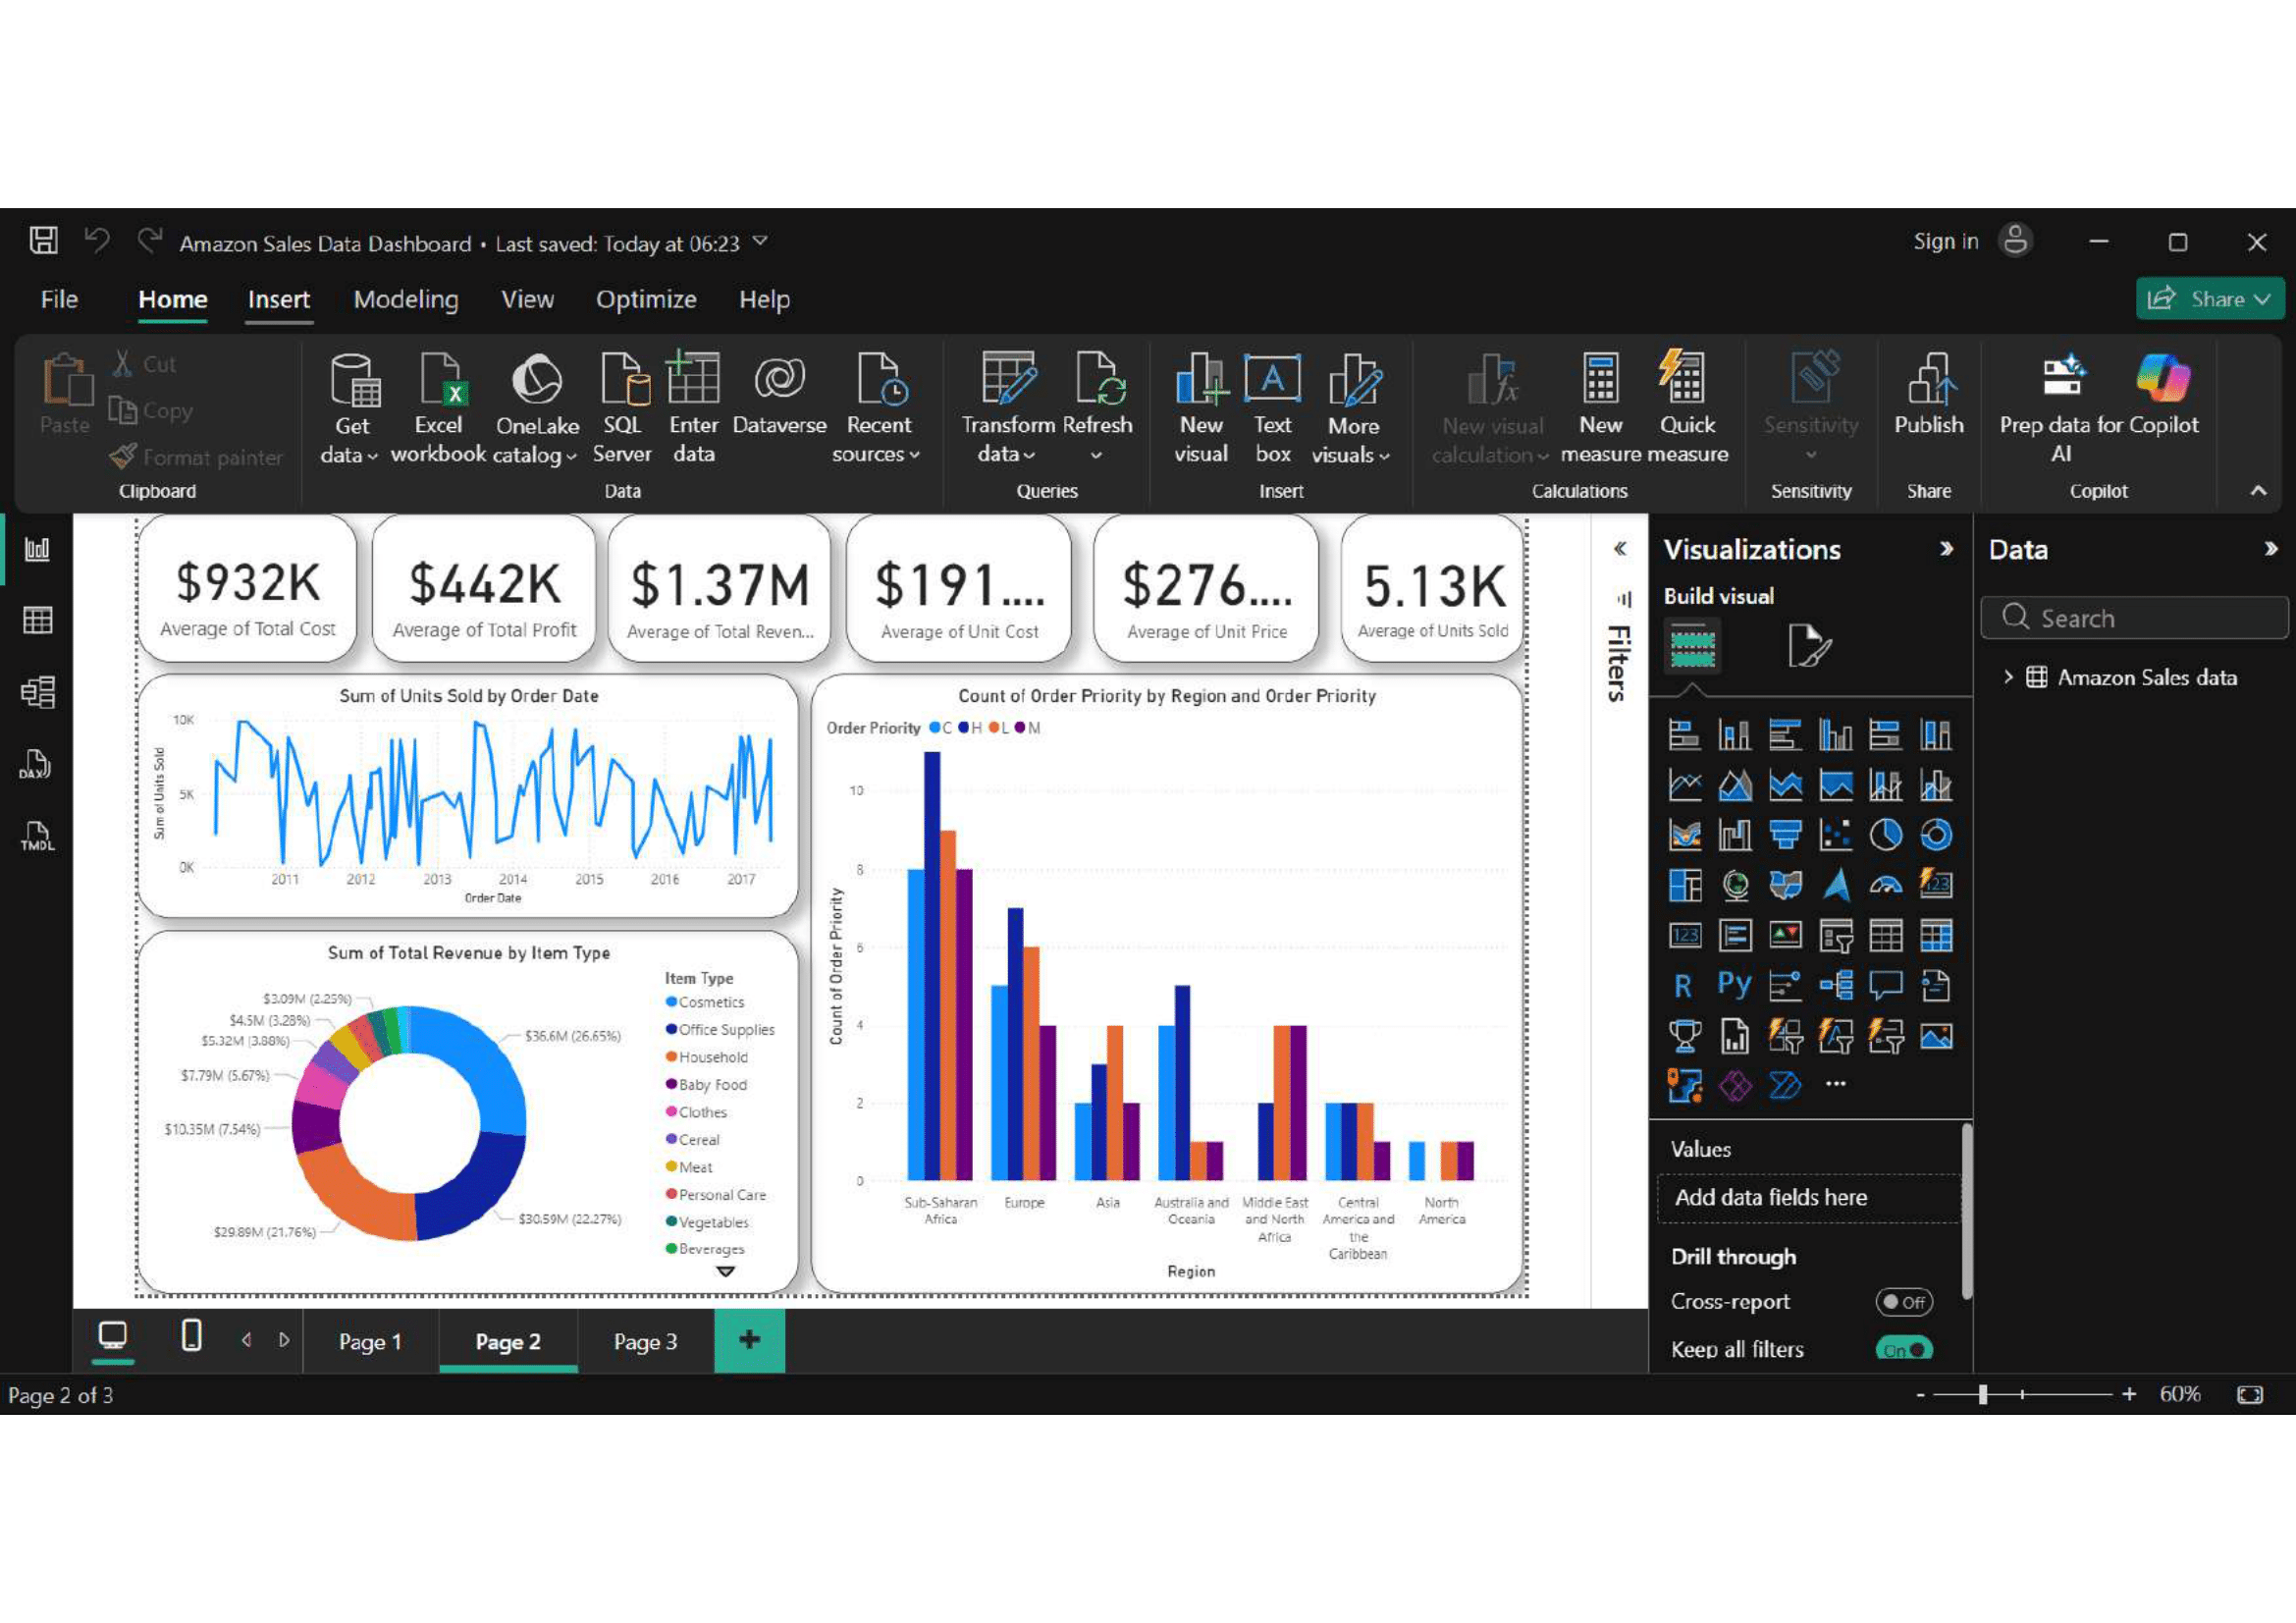

The dashboard page shown, as its layout file describes it:
{"tool":"powerbi","page":{"name":"Page 2","canvas":[1280,720],"ordinal":1},"visuals":[{"type":"card","fields":{"Values":["Avg(Amazon Sales data.Total Cost)"]},"box":[0,0,201.9,136.7],"z":0},{"type":"card","fields":{"Values":["Avg(Amazon Sales data.Total Revenue)"]},"box":[433.9,0,206.6,136.7],"z":1000},{"type":"card","fields":{"Values":["Avg(Amazon Sales data.Unit Cost)"]},"box":[654.8,0,208.2,136.7],"z":2000},{"type":"card","fields":{"Values":["Avg(Amazon Sales data.Unit Price)"]},"box":[882.1,0,208.2,136.7],"z":3000},{"type":"card","fields":{"Values":["Avg(Amazon Sales data.Units Sold)"]},"box":[1111,0,168.5,136.7],"z":4000},{"type":"card","fields":{"Values":["Avg(Amazon Sales data.Total Profit)"]},"box":[214.6,0,208.2,136.7],"z":5000},{"type":"lineChart","fields":{"Category":["Amazon Sales data.Order Date"],"Y":["Sum(Amazon Sales data.Units Sold)"]},"box":[0,147.8,610.3,225.7],"z":6000},{"type":"clusteredColumnChart","fields":{"Y":["CountNonNull(Amazon Sales data.Order Priority)"],"Category":["Amazon Sales data.Region"],"Series":["Amazon Sales data.Order Priority"]},"box":[621.5,147.8,658,572.2],"z":7000},{"type":"donutChart","fields":{"Category":["Amazon Sales data.Item Type"],"Y":["Sum(Amazon Sales data.Total Revenue)"]},"box":[0,384.6,610.3,335.4],"z":8000}]}

Visuals, with their boxes on the page's 1280x720 design canvas (x1, y1, x2, y2). These are canvas units, not pixel positions in the 2296x1623 screenshot, which may show the page scaled, cropped or inside an application window:
card - Avg(Amazon Sales data.Total Cost): <bbox>0, 0, 202, 137</bbox>
card - Avg(Amazon Sales data.Total Revenue): <bbox>434, 0, 640, 137</bbox>
card - Avg(Amazon Sales data.Unit Cost): <bbox>655, 0, 863, 137</bbox>
card - Avg(Amazon Sales data.Unit Price): <bbox>882, 0, 1090, 137</bbox>
card - Avg(Amazon Sales data.Units Sold): <bbox>1111, 0, 1280, 137</bbox>
card - Avg(Amazon Sales data.Total Profit): <bbox>215, 0, 423, 137</bbox>
lineChart - Amazon Sales data.Order Date x Sum(Amazon Sales data.Units Sold): <bbox>0, 148, 610, 374</bbox>
clusteredColumnChart - CountNonNull(Amazon Sales data.Order Priority) x Amazon Sales data.Region: <bbox>622, 148, 1280, 720</bbox>
donutChart - Amazon Sales data.Item Type x Sum(Amazon Sales data.Total Revenue): <bbox>0, 385, 610, 720</bbox>
